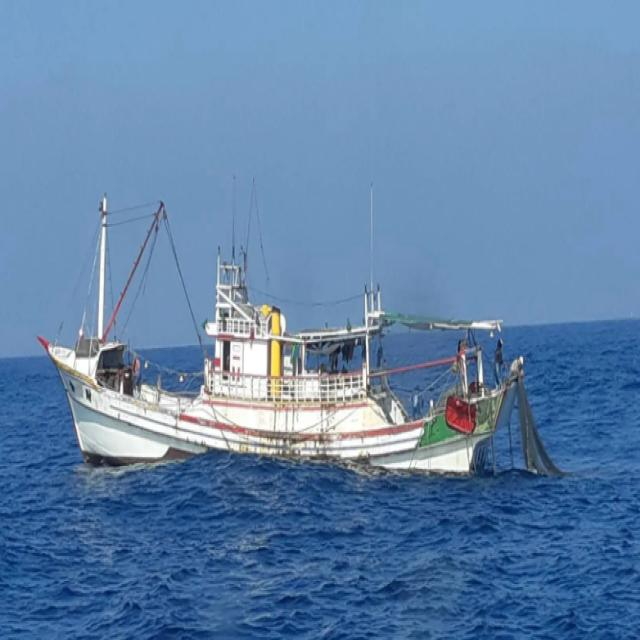fishing boat: (51, 194, 532, 489)
